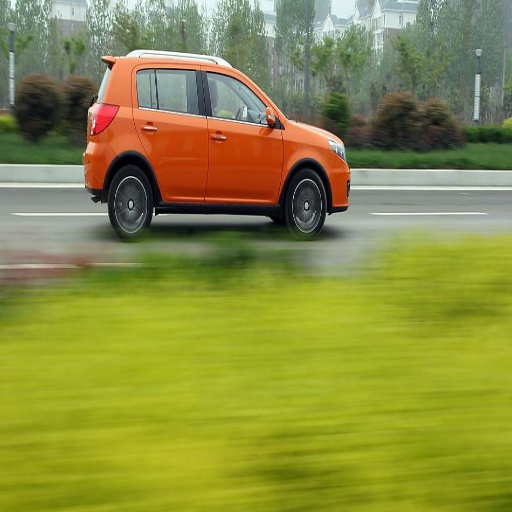back_right_door: (135, 66, 208, 202)
front_right_door: (204, 66, 283, 201)
